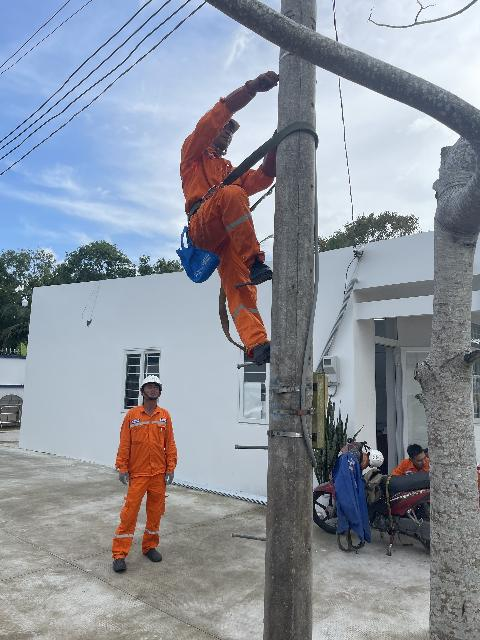gloves: (161, 183, 244, 221), (260, 132, 286, 174), (116, 465, 133, 485), (165, 467, 176, 488)
helmet: (129, 373, 178, 394), (209, 112, 247, 138)
shoes: (241, 258, 283, 288), (246, 338, 284, 368), (141, 545, 165, 566), (109, 557, 131, 575)
